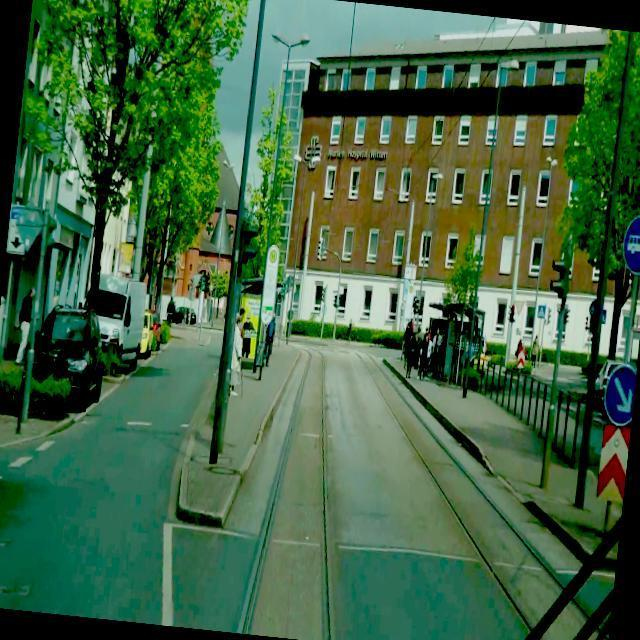rail: (206, 346, 357, 640)
